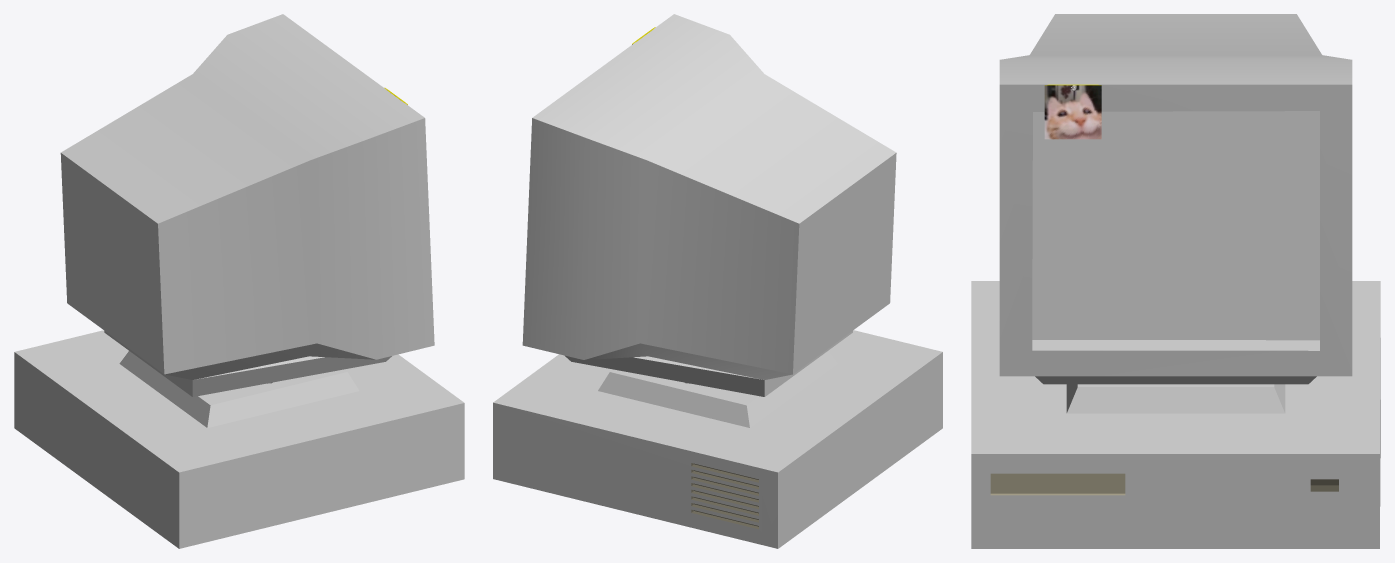
The model's file is RetroPC.fbx.
3 views of the same model, side by side, from view 1: azimuth 30°, elevation 25°; view 2: azimuth 150°, elevation 25°; view 3: azimuth 270°, elevation 25° (orthographic). The views are drawn at different scales.
Visible parts, largest first — view 1: Cube; view 2: Cube; view 3: Cube.
Boxes of the visible parts, box(x1,y1,x2,y2) form: Cube: box(14, 14, 464, 548); Cube: box(493, 14, 942, 548); Cube: box(971, 14, 1380, 548).
Size of the model in its own units: 0.5161 by 0.6219 by 0.5161.
